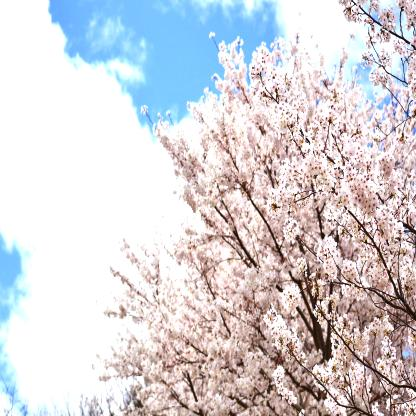Someiyoshino: (66, 1, 415, 414)
